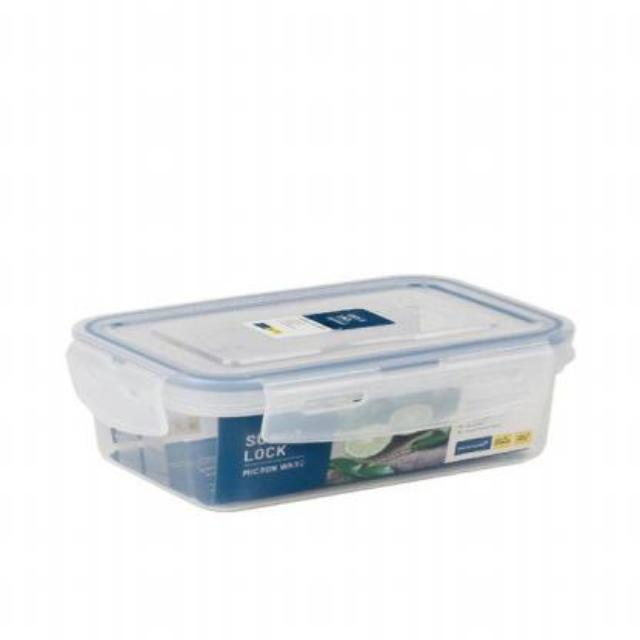plastic_box: (66, 278, 576, 512)
